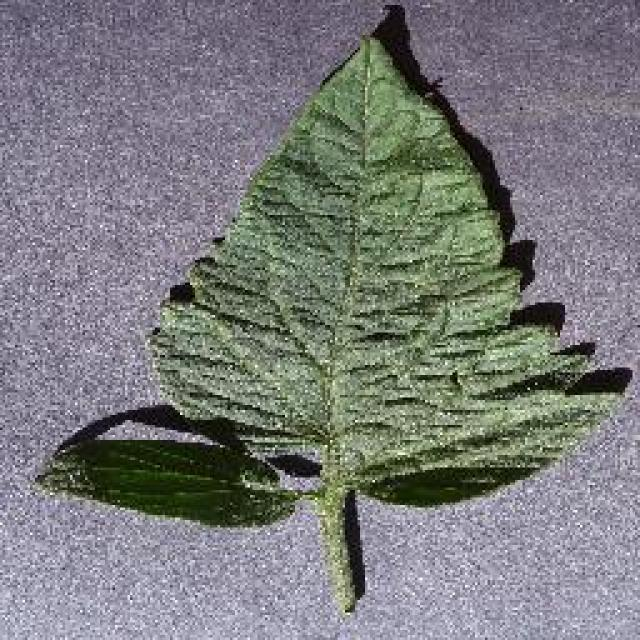Tomato_Healthy: (19, 37, 626, 519)
